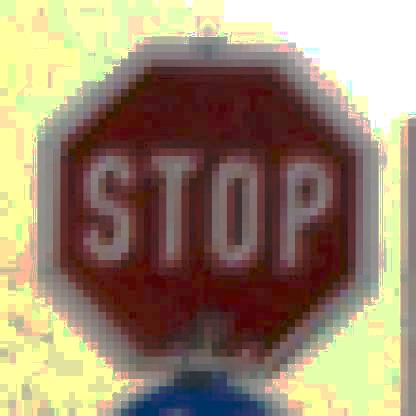Stop Sign: (42, 44, 382, 372)
